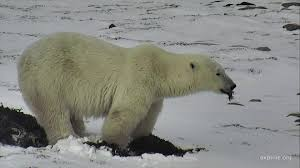PolarBear: (9, 29, 240, 149)
